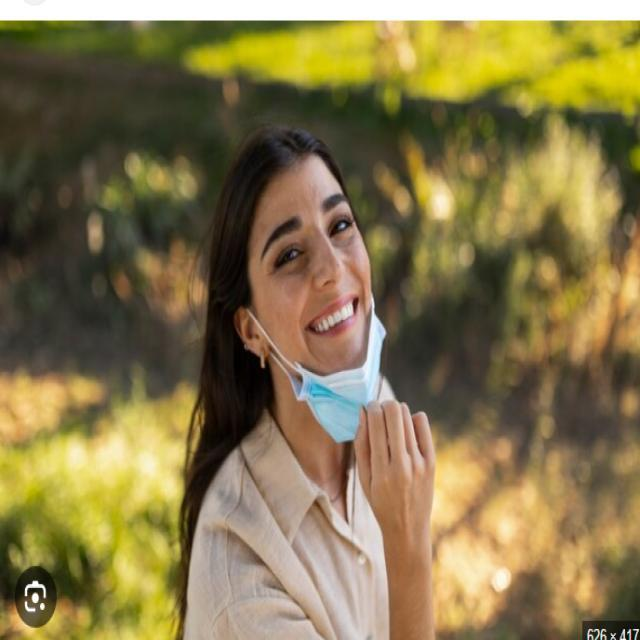face_no_mask: (234, 156, 372, 401)
